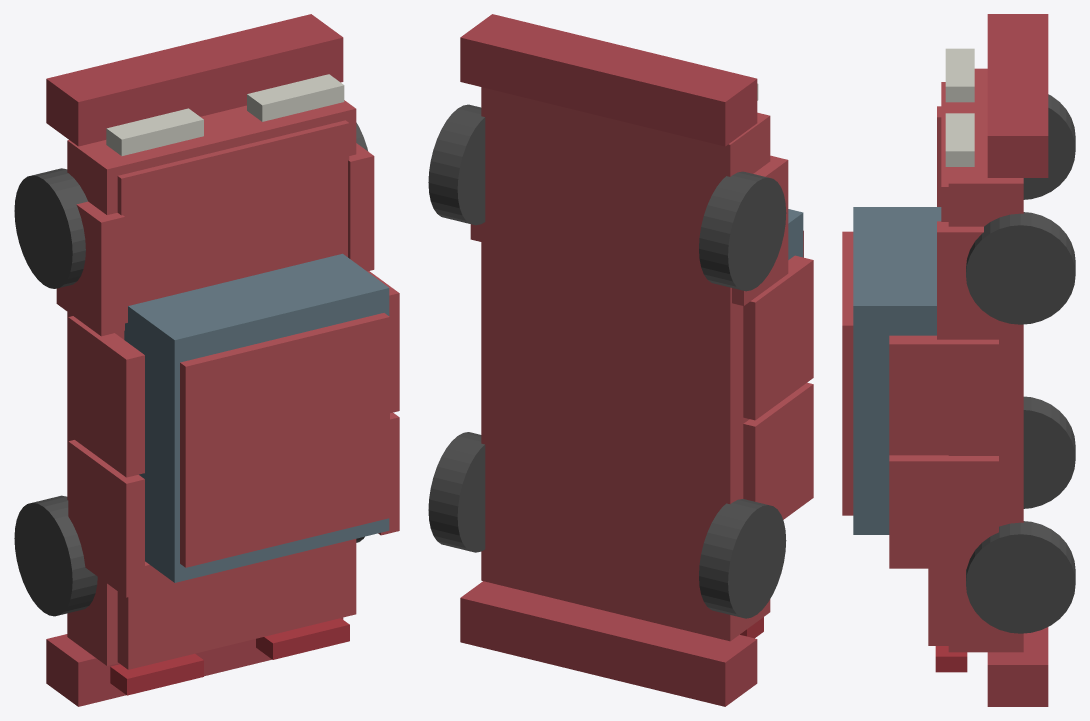
File: fiat-egea-demo.glb
The picture shows the model from 3 angles, left to right: view 1: azimuth 30°, elevation 25°; view 2: azimuth 150°, elevation 25°; view 3: azimuth 270°, elevation 25°; orthographic projection. The views are drawn at different scales.
Parts seen in each view (by area): view 1: roof, hood, cabin, front_bumper, trunk, body_base, door_front_left, door_rear_left, wheel_rear_left, wheel_front_left, front_fender_left, rear_bumper (+7 smaller); view 2: body_base, front_bumper, rear_bumper, door_front_left, wheel_rear_left, wheel_front_left, door_rear_left, wheel_front_right, wheel_rear_right, front_fender_left, cabin; view 3: cabin, body_base, door_front_right, door_rear_right, front_bumper, wheel_front_right, wheel_rear_right, front_fender_right, wheel_rear_left, rear_bumper, roof, wheel_front_left (+6 smaller).
Boxes of the visible parts, box(x1,y1,x2,y2) form: roof: box(180, 313, 389, 567); hood: box(117, 120, 349, 323); cabin: box(124, 253, 389, 582); front_bumper: box(46, 14, 343, 146); trunk: box(117, 539, 356, 669); body_base: box(67, 100, 356, 665); door_front_left: box(68, 316, 144, 477); door_rear_left: box(68, 440, 144, 597); wheel_rear_left: box(14, 495, 97, 616); wheel_front_left: box(14, 168, 87, 288); front_fender_left: box(56, 201, 124, 336); rear_bumper: box(46, 617, 343, 706); body_base: box(481, 87, 770, 641); front_bumper: box(460, 14, 757, 146); rear_bumper: box(460, 581, 757, 706); door_front_left: box(743, 255, 813, 420); wheel_rear_left: box(699, 499, 786, 618); wheel_front_left: box(699, 171, 786, 291); door_rear_left: box(743, 382, 813, 519); wheel_front_right: box(428, 104, 485, 225); wheel_rear_right: box(428, 432, 485, 552); front_fender_left: box(732, 155, 788, 305); cabin: box(788, 209, 803, 259); cabin: box(853, 207, 941, 534); body_base: box(948, 68, 1023, 652); door_front_right: box(889, 335, 998, 455); door_rear_right: box(889, 455, 998, 568); front_bumper: box(987, 14, 1048, 177); wheel_front_right: box(966, 212, 1075, 324); wheel_rear_right: box(966, 521, 1075, 633); front_fender_right: box(937, 221, 1020, 339); wheel_rear_left: box(1023, 396, 1075, 508); rear_bumper: box(987, 627, 1048, 706); roof: box(842, 231, 853, 515); wheel_front_left: box(1023, 94, 1075, 199).
Bounding box in the file's own units: 2.26 × 4.36 × 1.61.
